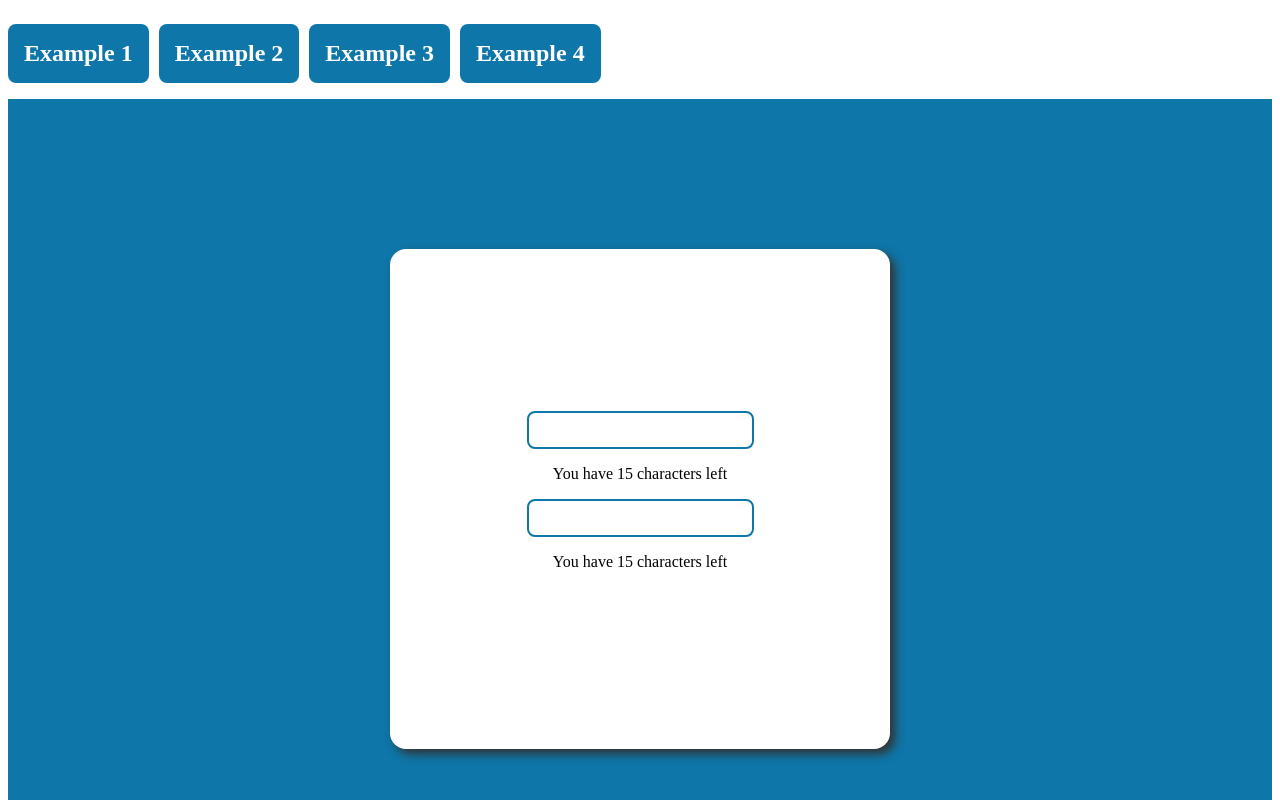
Scenario: Alias › Displays appropriate remaining characters cout
Check: the text with test id "first-name-chars-left-count" reads "15", box [617, 465, 633, 482]
Type "hello" into the field with test id "input-first-name" at x=641, y=430, box [527, 411, 754, 449]
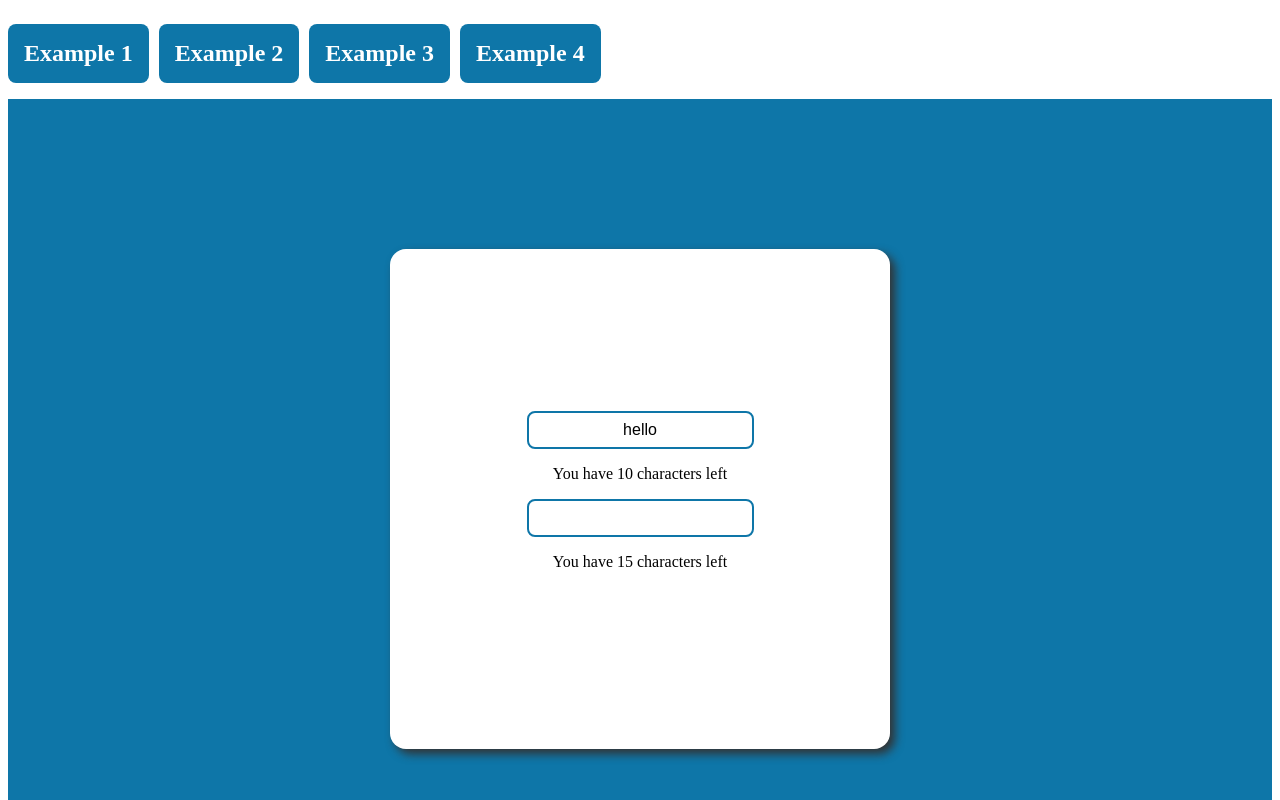
Check: the text with test id "first-name-chars-left-count" reads "10", box [617, 465, 633, 482]
Type " my friend" into the field with test id "input-first-name" at x=641, y=430, box [527, 411, 754, 449]
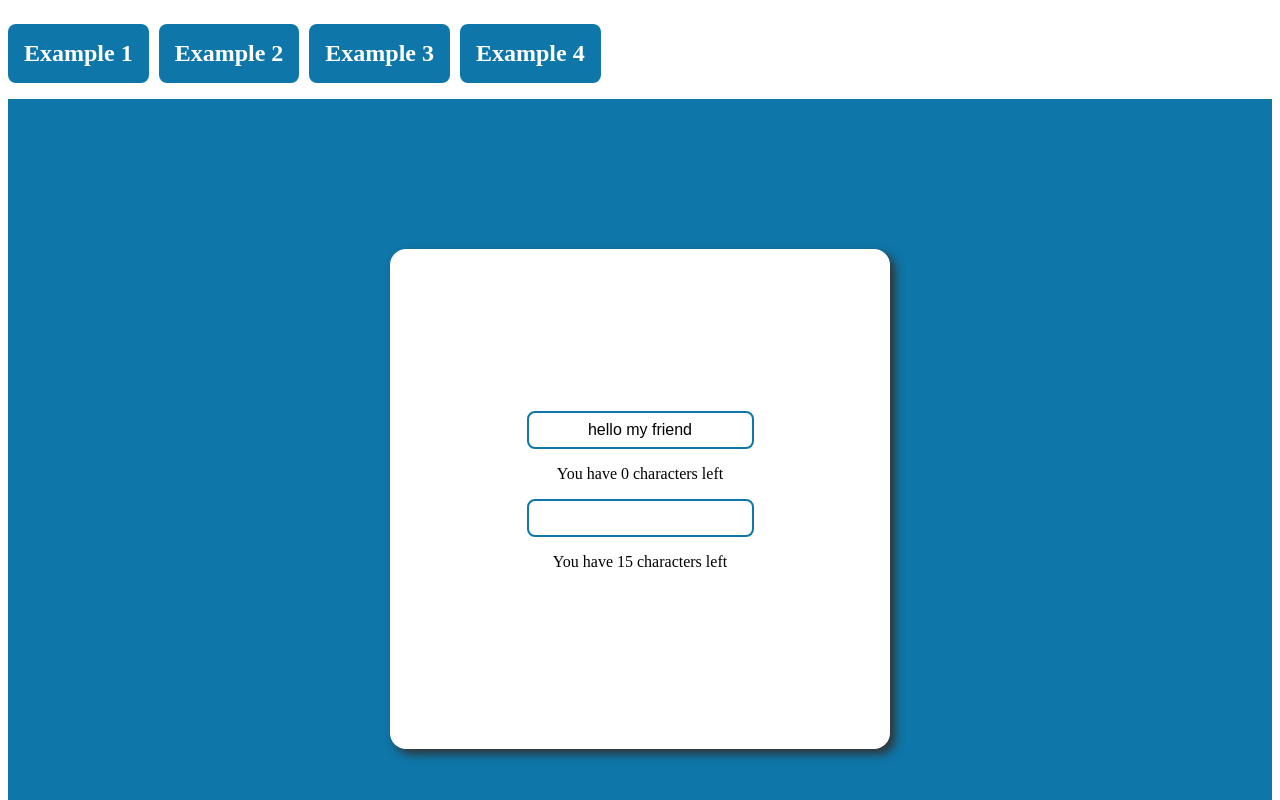
Check: the text with test id "first-name-chars-left-count" reads "0", box [621, 465, 629, 482]
